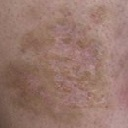Pyoderma Gangrenosum: (12, 14, 113, 111)
